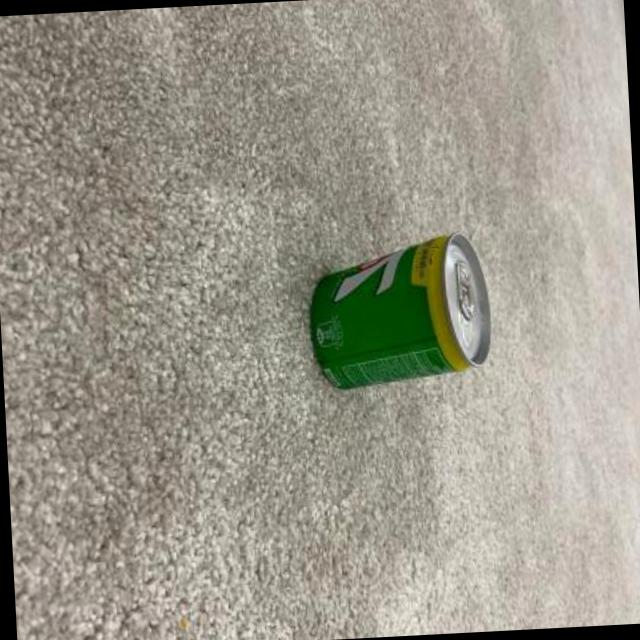metal: (314, 236, 492, 391)
